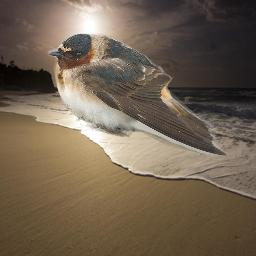Swallow: (48, 33, 228, 157)
